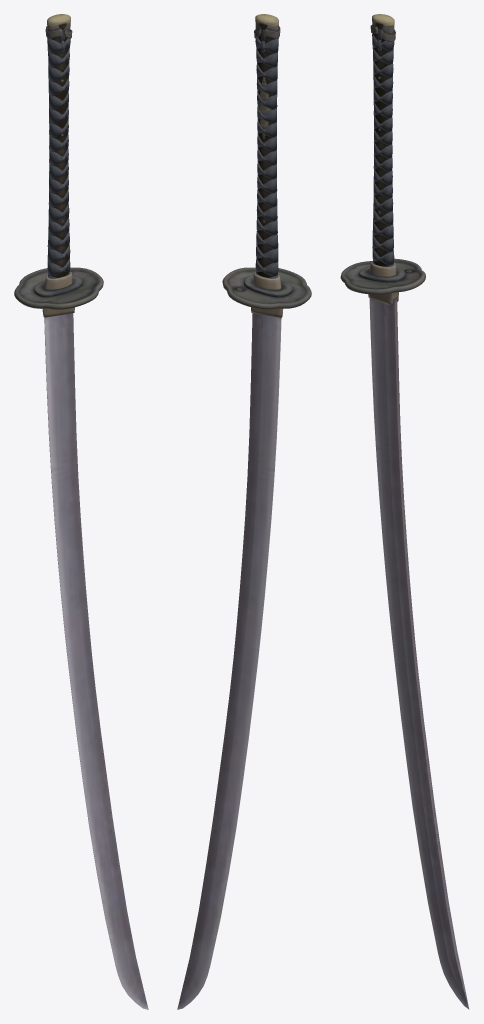
Rendered from weapon-wp_a_1673.glb.
3 renders of one model, left to right at view 1: azimuth 30°, elevation 25°; view 2: azimuth 150°, elevation 25°; view 3: azimuth 330°, elevation 25°, orthographic. The views are drawn at different scales.
Parts seen in each view (by area): view 1: wp_a_1673_mesh; view 2: wp_a_1673_mesh; view 3: wp_a_1673_mesh.
Boxes of the visible parts, x1,y1,x2,y2 form: wp_a_1673_mesh: [14, 14, 148, 1009]; wp_a_1673_mesh: [177, 14, 311, 1009]; wp_a_1673_mesh: [340, 14, 469, 1009].
Size of the model in its own units: 0.2724 by 2.04 by 0.1579.
Materials: 2 (2 with a texture image).
